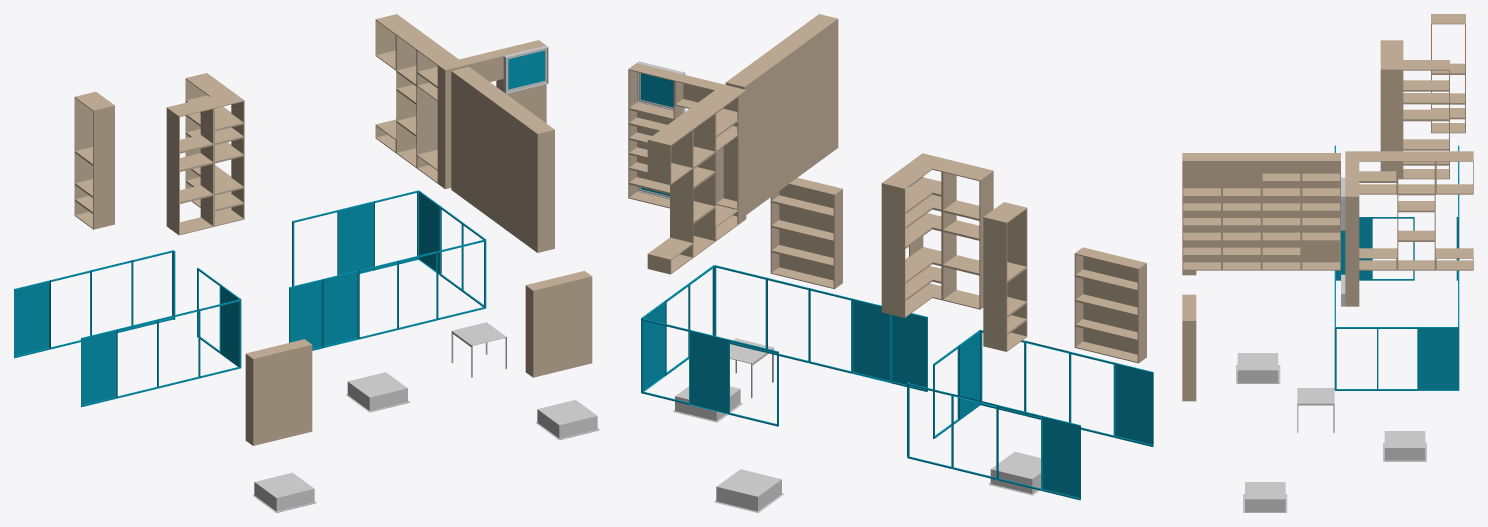
3 views of the same model, side by side, from view 1: azimuth 30°, elevation 25°; view 2: azimuth 150°, elevation 25°; view 3: azimuth 270°, elevation 25° (orthographic). The views are drawn at different scales.
Size of the model in its own units: 10.76 by 7.54 by 6.26.
